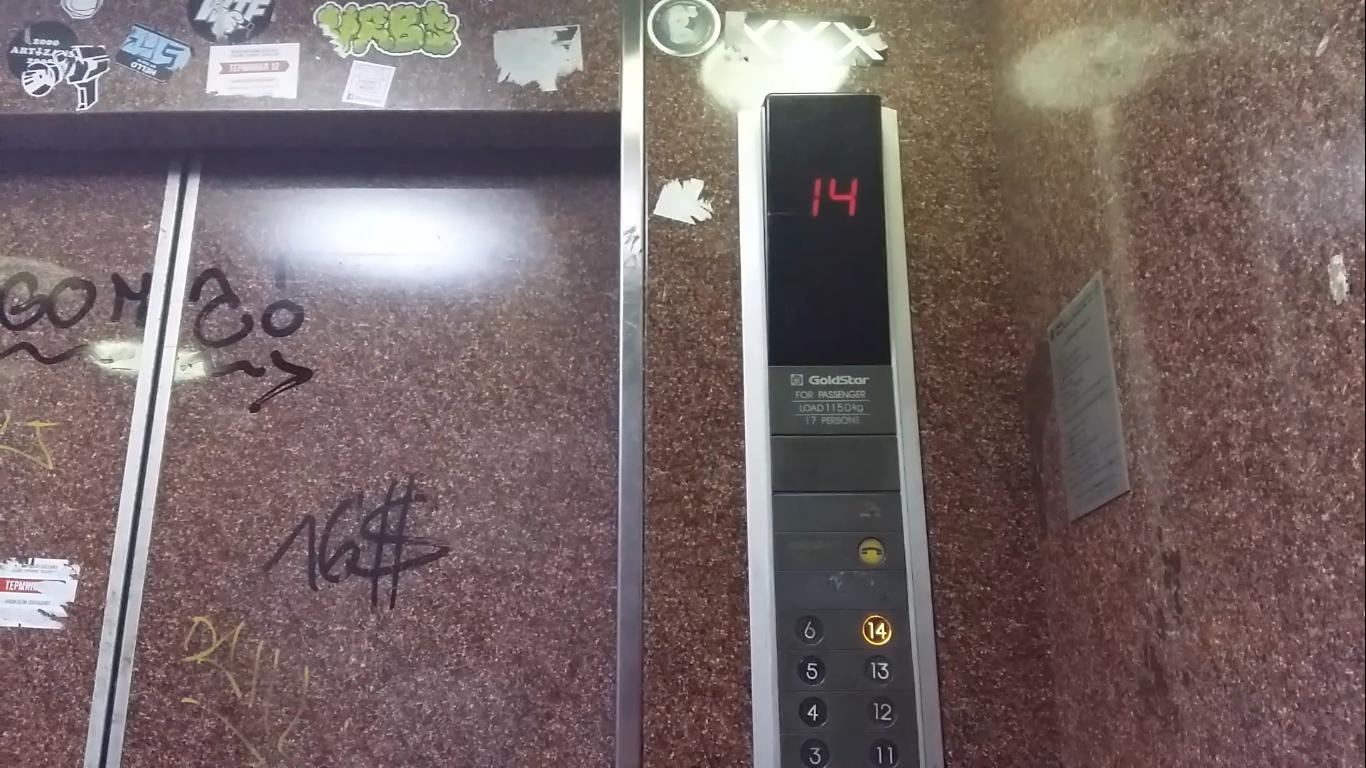11: (868, 736, 900, 768)
12: (866, 696, 898, 728)
13: (861, 653, 893, 685)
14: (860, 613, 893, 647)
3: (797, 734, 832, 768)
4: (796, 693, 831, 728)
5: (795, 654, 827, 686)
6: (793, 614, 825, 646)
call: (856, 536, 888, 568)
led: (759, 86, 899, 372)
